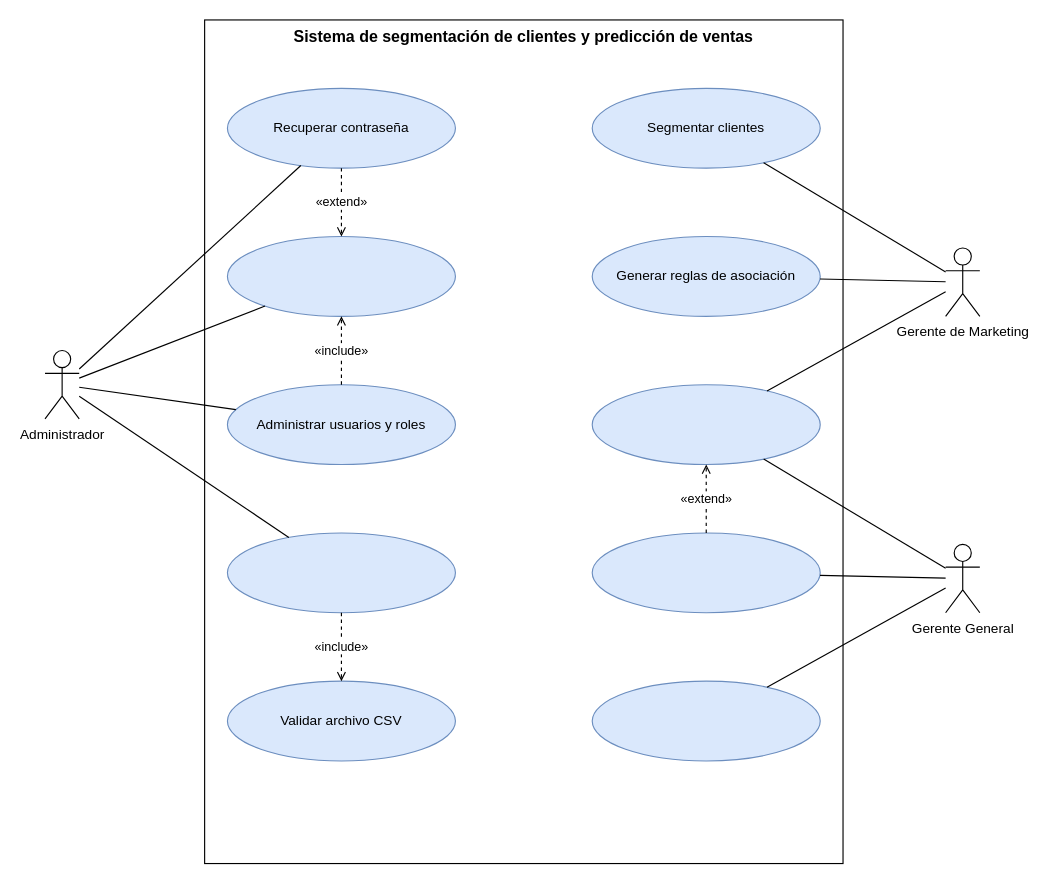
Image size: 1048x884. Some labels were removed from this diagram. Here are the shapes that lost their labels. From the top down, the centre of each, then its label:
At (340,275): "Iniciar sesión".
At (705,424): "Consultar reportes".
At (340,572): "Cargar datos de ventas (CSV)".
At (705,572): "Exportar reporte".
At (705,720): "Predecir ventas".
